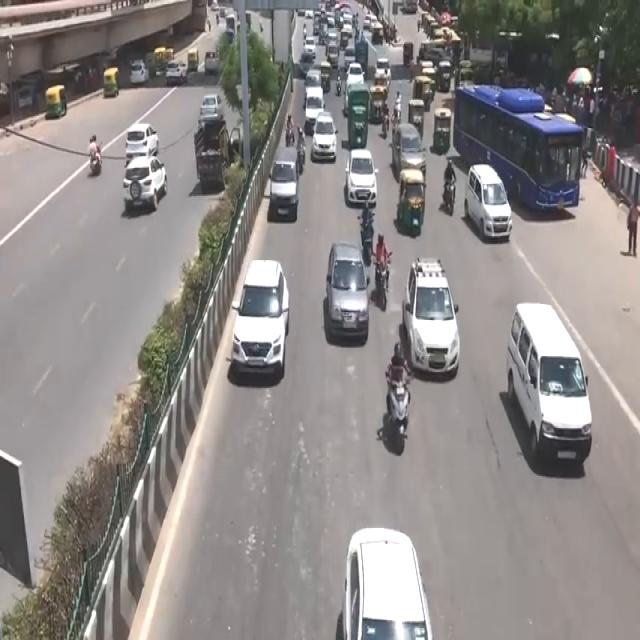BUS: (454, 80, 582, 225)
MOTORCYCLE: (390, 378, 414, 459), (375, 256, 392, 312), (90, 143, 104, 179)
